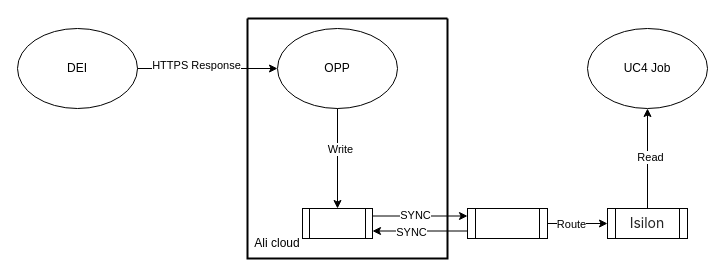
Some shapes in this 725 by 276 pixel diagram are drawn without their labels. The shapes that lost their labels are listed below. From the top down, each one's centre as x and y in pixels, then its label:
the point at 337,223: Online NAS
the point at 507,223: Off-Line NAS
